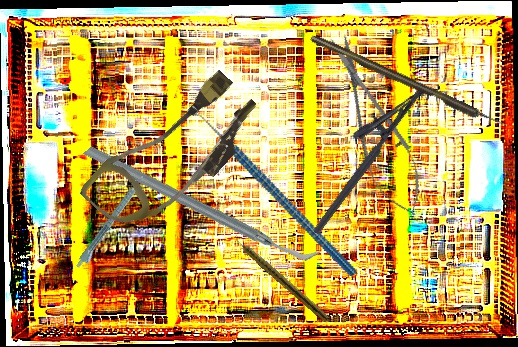Cannula: (77, 54, 270, 253)
Chopper: (81, 75, 323, 330), (180, 74, 357, 313)
Handpiece: (230, 233, 332, 323), (74, 174, 150, 272)
Hook Surgical: (309, 32, 509, 133)
Micro Scissor: (315, 26, 436, 226)
Needle Holder: (291, 68, 430, 236)
